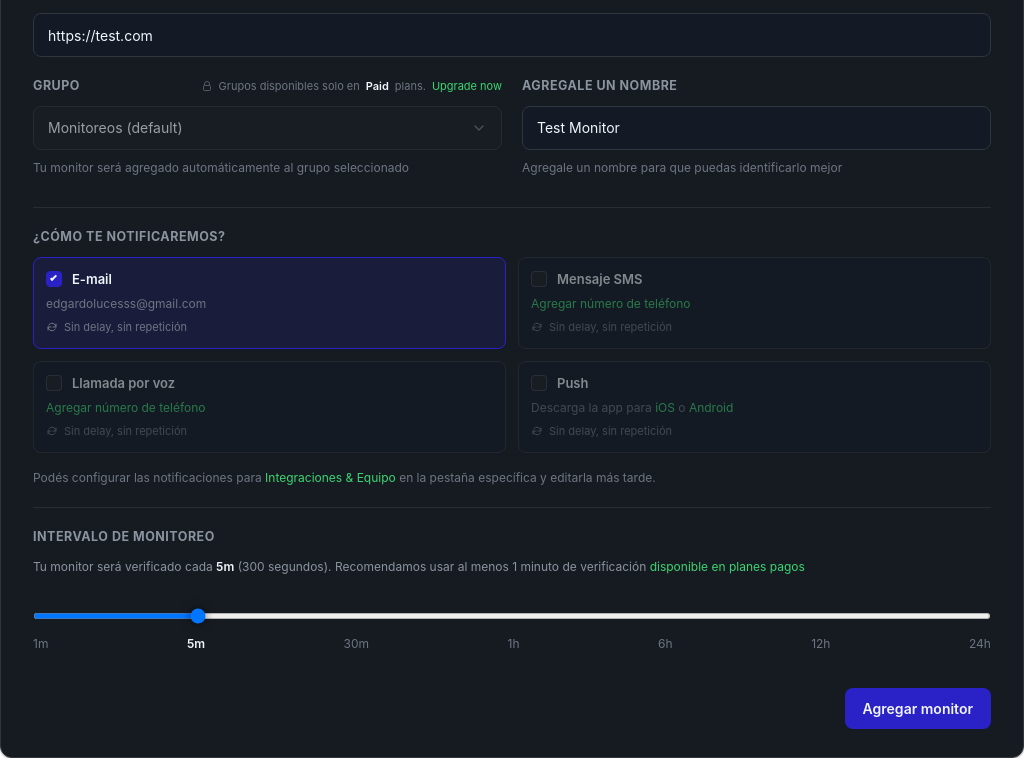
Test case: MonitorsNewHttp › should show success toast on successful creation
(page scrolled)
Click the button "Agregar monitor": (918, 709) [845, 688, 991, 729]
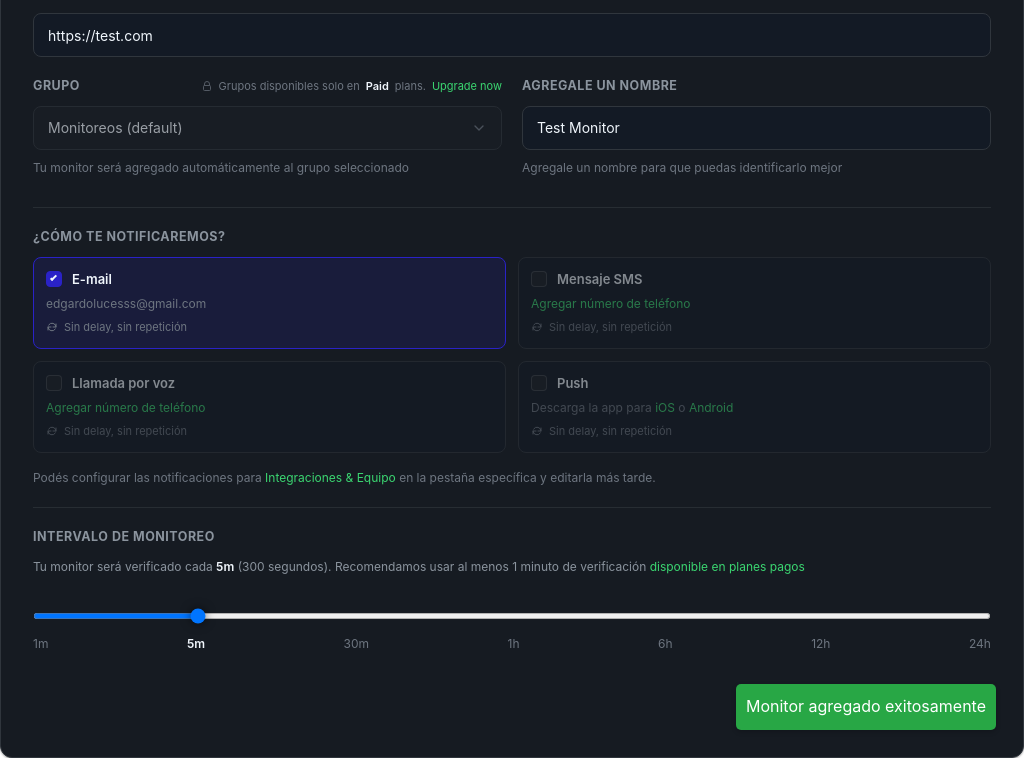
Expected: the text "Monitor agregado exitosamente" is shown, [746, 694, 986, 720]
